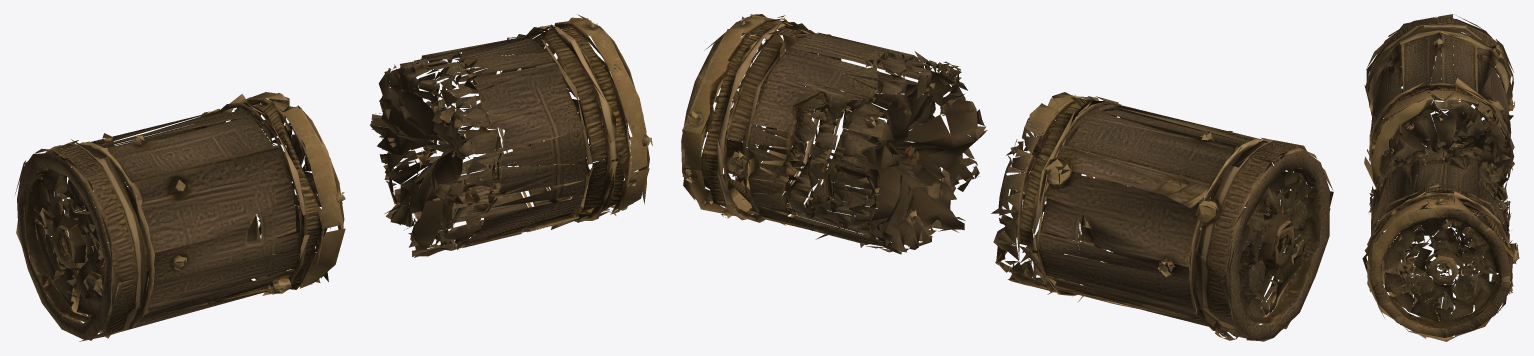
Rendered from ch9_sheared_resonance_conduit_LOD2.glb.
3 views of the same model, side by side, from view 1: azimuth 30°, elevation 25°; view 2: azimuth 150°, elevation 25°; view 3: azimuth 270°, elevation 25° (orthographic). The views are drawn at different scales.
Parts seen in each view (by area): view 1: tripo_node_ba16dd95-4afa-4617-b60e-56446d4bd330; view 2: tripo_node_ba16dd95-4afa-4617-b60e-56446d4bd330; view 3: tripo_node_ba16dd95-4afa-4617-b60e-56446d4bd330.
Boxes of the visible parts, bbox=[...] form: tripo_node_ba16dd95-4afa-4617-b60e-56446d4bd330: bbox=[15, 14, 652, 341]; tripo_node_ba16dd95-4afa-4617-b60e-56446d4bd330: bbox=[681, 14, 1333, 341]; tripo_node_ba16dd95-4afa-4617-b60e-56446d4bd330: bbox=[1362, 14, 1519, 341].
Bounding box in the file's own units: 1 × 0.3369 × 0.3416.
Materials: 1 (1 with a texture image).
